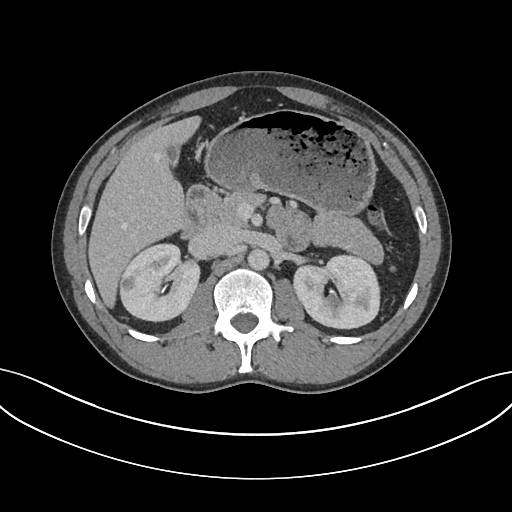Lesion: (118, 275, 138, 297)
